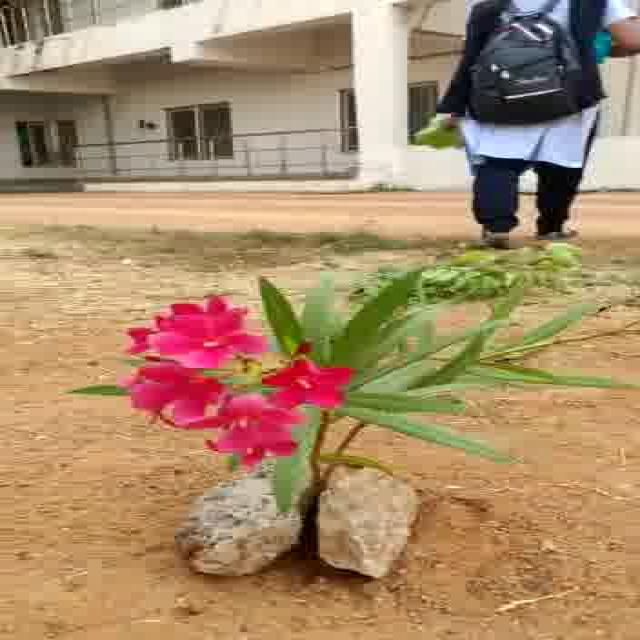Oleander: (100, 305, 600, 520)
